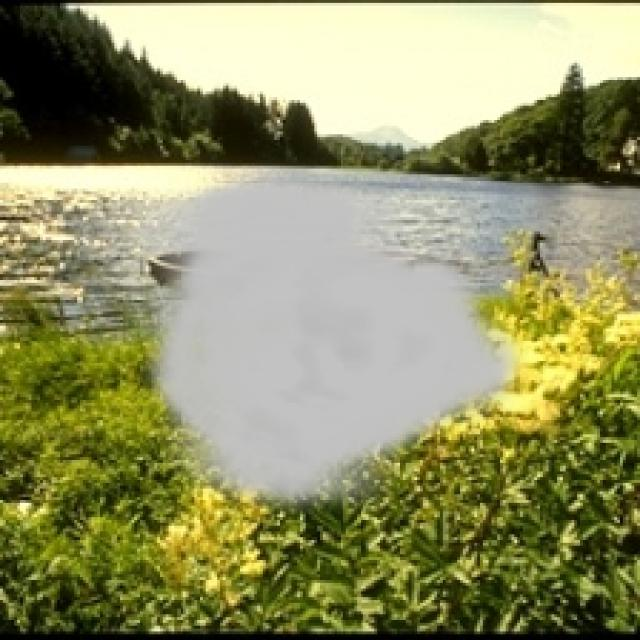smoke: (140, 169, 529, 520)
